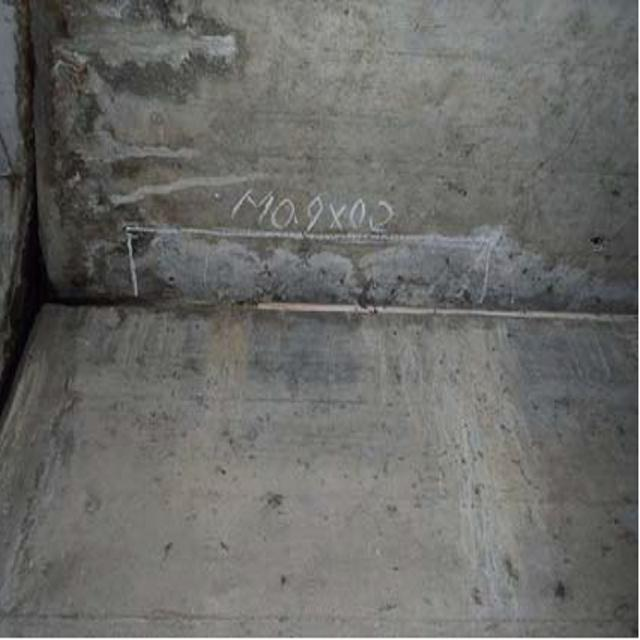spalling: (127, 213, 583, 318)
